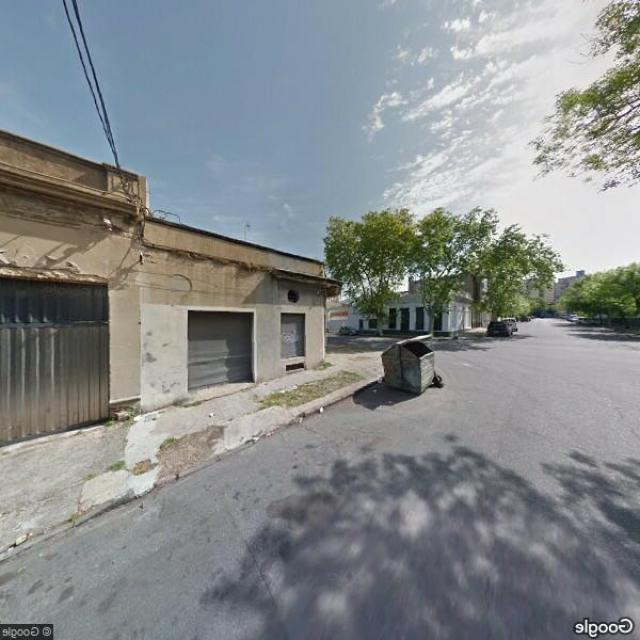garbage container: (370, 335, 446, 400)
